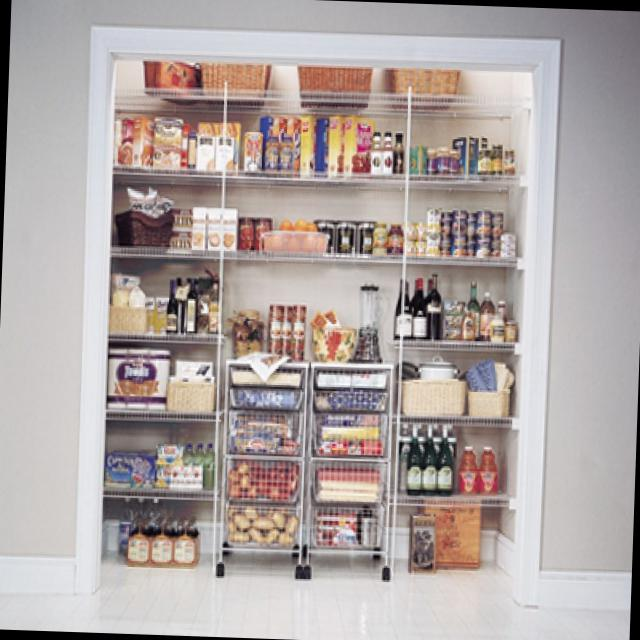basket crop: (396, 375, 465, 413), (112, 207, 172, 245), (166, 377, 212, 411), (467, 385, 507, 415)
baskets: (213, 354, 307, 573), (302, 359, 391, 575)
bottle crop: (161, 275, 177, 330), (405, 434, 419, 493), (368, 130, 381, 171), (185, 276, 195, 329), (202, 439, 212, 488), (381, 128, 391, 171)
bottles occluded: (124, 514, 196, 564), (390, 270, 439, 337), (420, 428, 450, 491)
box contants: (148, 114, 181, 168), (406, 510, 433, 569), (151, 461, 201, 490), (127, 115, 153, 169), (238, 128, 260, 168), (192, 134, 213, 169), (214, 134, 231, 169)
boxs: (258, 113, 366, 172)
floor -X: (0, 580, 627, 640)
frame: (72, 22, 559, 603)
jar -X: (455, 442, 476, 489), (477, 445, 497, 491), (370, 221, 386, 254), (386, 222, 402, 253), (459, 308, 474, 339)
pantry door: (98, 58, 529, 588)
paper towel dispense: (106, 346, 169, 407)
tin box: (475, 146, 490, 177), (498, 230, 514, 255)
tins of tea: (264, 301, 303, 354), (449, 208, 466, 255), (423, 205, 439, 254), (473, 208, 490, 253)
